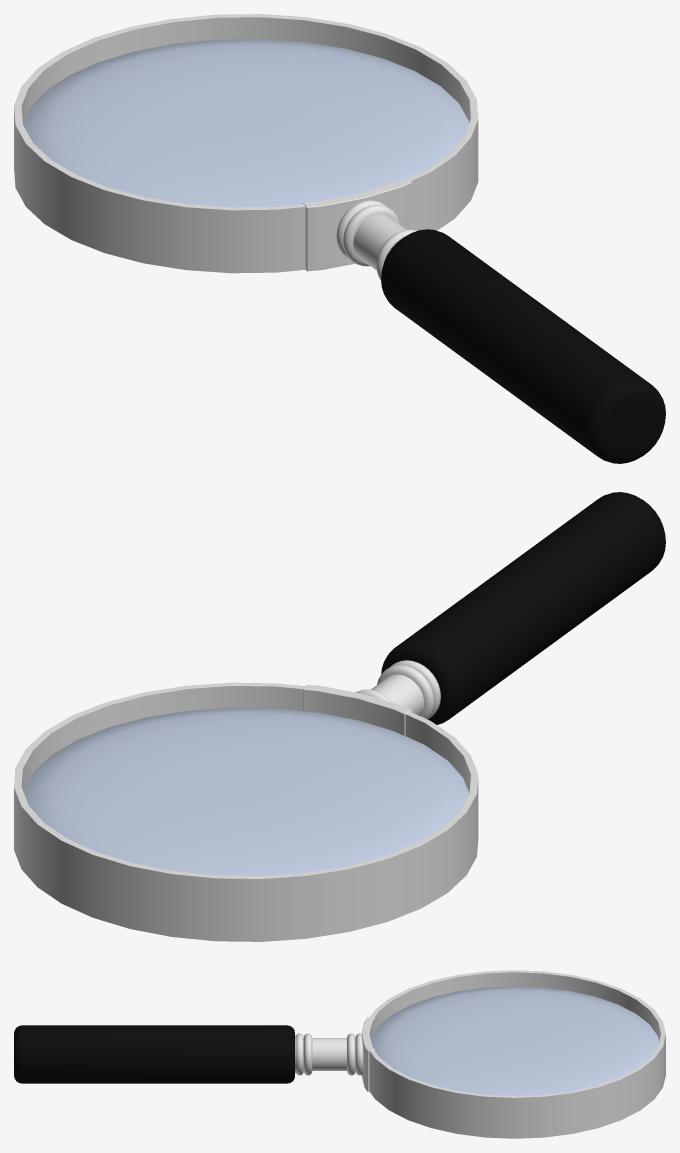
The model's file is MagnifyingGlass.fbx.
3 renders of one model, top to bottom at view 1: azimuth 30°, elevation 25°; view 2: azimuth 150°, elevation 25°; view 3: azimuth 270°, elevation 25°, orthographic. The views are drawn at different scales.
Visible parts, largest first — view 1: Cylinder.003, Cylinder.001, Cylinder, Cylinder.002; view 2: Cylinder.003, Cylinder.001, Cylinder, Cylinder.002; view 3: Cylinder.003, Cylinder, Cylinder.001, Cylinder.002.
Part boxes in pixels (left/top/right/bottom): Cylinder.003: left=23, top=39, right=468, bottom=206; Cylinder.001: left=14, top=14, right=478, bottom=273; Cylinder: left=336, top=200, right=665, bottom=463; Cylinder.002: left=303, top=178, right=411, bottom=271; Cylinder.003: left=23, top=707, right=469, bottom=875; Cylinder.001: left=14, top=682, right=478, bottom=941; Cylinder: left=355, top=492, right=665, bottom=724; Cylinder.002: left=303, top=684, right=411, bottom=735; Cylinder.003: left=371, top=986, right=659, bottom=1095; Cylinder: left=14, top=1025, right=363, bottom=1083; Cylinder.001: left=369, top=970, right=665, bottom=1138; Cylinder.002: left=361, top=1017, right=374, bottom=1091.
Bounding box in the file's own units: 177 × 34.15 × 381.
